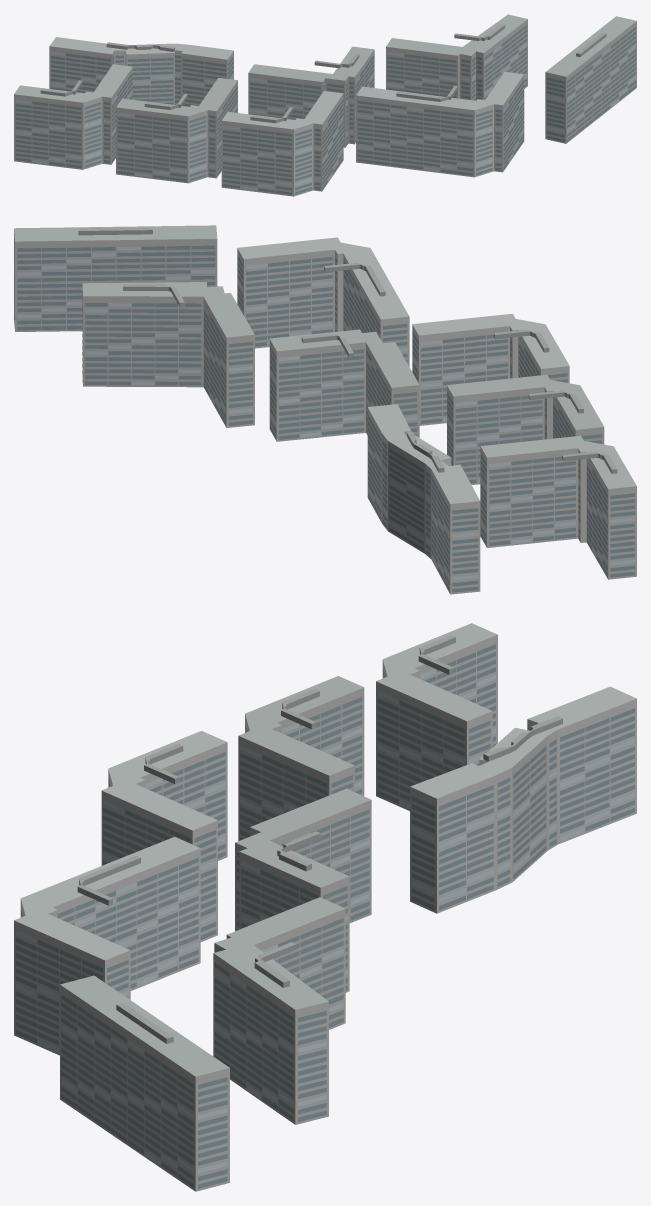
Rendered from apt-a15681502.glb.
The picture shows the model from 3 angles, top to bottom: view 1: azimuth 30°, elevation 25°; view 2: azimuth 150°, elevation 25°; view 3: azimuth 270°, elevation 25°; orthographic projection. The views are drawn at different scales.
Parts seen in each view (by area): view 1: apt-a15681502; view 2: apt-a15681502; view 3: apt-a15681502.
Part boxes in pixels (x1=…): apt-a15681502: x1=14, y1=14, x2=636, y2=196; apt-a15681502: x1=14, y1=225, x2=636, y2=594; apt-a15681502: x1=14, y1=623, x2=636, y2=1191.
Size of the model in its own units: 323 by 40 by 188.
